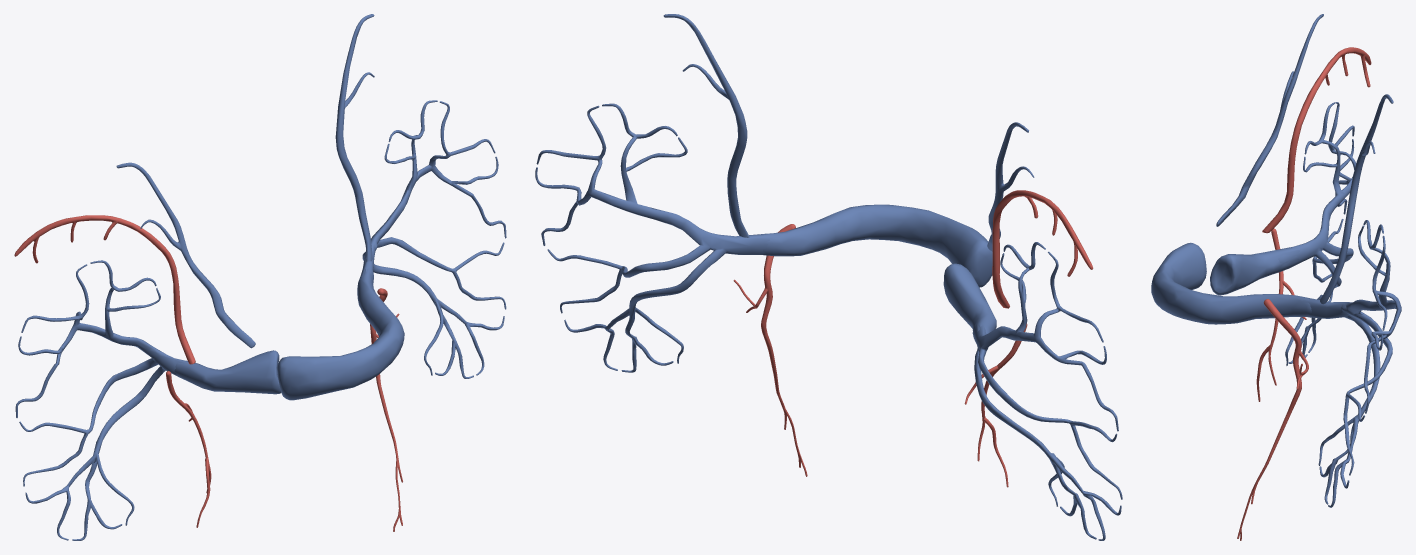
The model's file is renal-vascular.glb.
The picture shows the model from 3 angles, left to right: view 1: azimuth 30°, elevation 25°; view 2: azimuth 150°, elevation 25°; view 3: azimuth 270°, elevation 25°; orthographic projection. The views are drawn at different scales.
Parts seen in each view (by area): view 1: FMA14336, FMA14335, FMA69265, FMA14349, FMA14343, FMA70493, FMA70492; view 2: FMA14336, FMA14335, FMA14349, FMA69265, FMA70493, FMA14343, FMA70492; view 3: FMA14336, FMA14335, FMA69265, FMA14349, FMA14343, FMA70493, FMA70492.
Boxes of the visible parts, x1,y1,x2,y2 form: FMA14336: [277, 100, 506, 400]; FMA14335: [15, 260, 281, 540]; FMA69265: [14, 215, 195, 364]; FMA14349: [335, 14, 374, 261]; FMA14343: [116, 162, 255, 348]; FMA70493: [370, 288, 402, 531]; FMA70492: [166, 371, 211, 527]; FMA14336: [535, 103, 992, 372]; FMA14335: [943, 242, 1122, 540]; FMA14349: [663, 14, 749, 237]; FMA69265: [992, 190, 1093, 308]; FMA70493: [733, 224, 807, 476]; FMA14343: [987, 122, 1034, 251]; FMA70492: [964, 323, 1027, 487]; FMA14336: [1151, 220, 1401, 507]; FMA14335: [1210, 102, 1356, 365]; FMA69265: [1262, 47, 1371, 233]; FMA14349: [1320, 94, 1393, 304]; FMA14343: [1216, 14, 1323, 226]; FMA70493: [1237, 299, 1308, 540]; FMA70492: [1256, 228, 1306, 401].
Bounding box in the file's own units: 1.54 × 1.33 × 0.6472.
